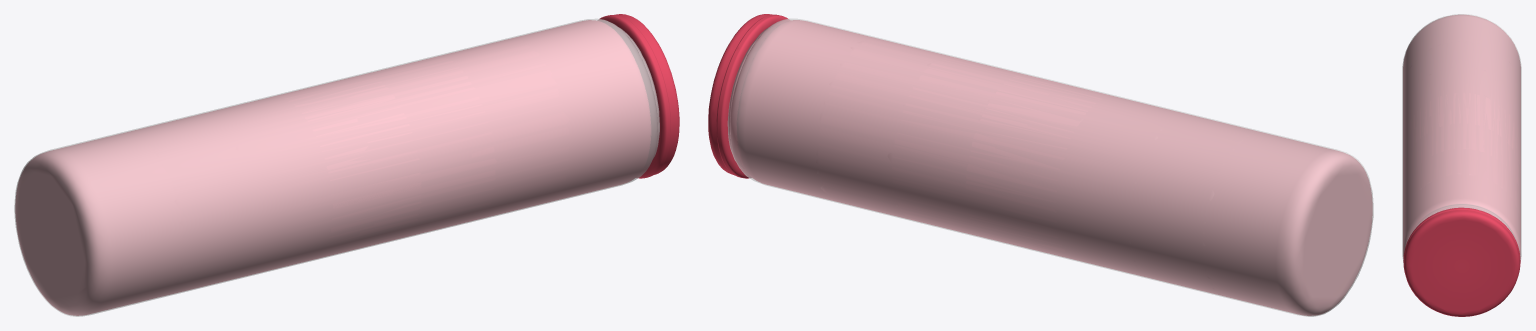
The model's file is glass-artwork-80.glb.
The picture shows the model from 3 angles, left to right: view 1: azimuth 30°, elevation 25°; view 2: azimuth 150°, elevation 25°; view 3: azimuth 270°, elevation 25°; orthographic projection. The views are drawn at different scales.
Visible parts, largest first — view 1: GLASS_Ruby_Red_XLong_Shell, GLASS_Ruby_Red_XLong_Body, GLASS_Amber_XLong_Shell, GLASS_Ruby_Red_Long_Body, GLASS_Ruby_Red_Long_Shell, GLASS_Amber_Long_Shell, GLASS_Ruby_Red_Base_Body, GLASS_Ruby_Red_Base_Shell, GLASS_Amber_Base_Shell, GLASS_Ruby_Red_Cube_Body, GLASS_Ruby_Red_XLong_Lid, GLASS_Ruby_Red_Cube_Shell (+2 smaller); view 2: GLASS_Ruby_Red_XLong_Shell, GLASS_Ruby_Red_XLong_Body, GLASS_Amber_XLong_Shell, GLASS_Ruby_Red_Long_Body, GLASS_Ruby_Red_Long_Shell, GLASS_Amber_Long_Shell, GLASS_Ruby_Red_Base_Body, GLASS_Ruby_Red_Base_Shell, GLASS_Amber_Base_Shell, GLASS_Ruby_Red_Cube_Body, GLASS_Ruby_Red_Cube_Shell, GLASS_Ruby_Red_XLong_Lid (+2 smaller); view 3: GLASS_Ruby_Red_XLong_Shell, GLASS_Ruby_Red_XLong_Body, GLASS_Amber_XLong_Shell, GLASS_Ruby_Red_XLong_Lid, GLASS_Ruby_Red_Long_Shell, GLASS_Ruby_Red_Long_Body, GLASS_Amber_Long_Shell, GLASS_Ruby_Red_Base_Body, GLASS_Ruby_Red_Base_Shell, GLASS_Amber_Base_Shell, GLASS_Ruby_Red_Cube_Body, GLASS_Ruby_Red_Cube_Shell (+2 smaller).
Boxes of the visible parts, x1,y1,x2,y2 form: GLASS_Ruby_Red_XLong_Shell: (14,19,659,316); GLASS_Ruby_Red_XLong_Body: (15,20,650,315); GLASS_Amber_XLong_Shell: (15,19,659,316); GLASS_Ruby_Red_Long_Body: (129,40,569,289); GLASS_Ruby_Red_Long_Shell: (132,40,570,295); GLASS_Amber_Long_Shell: (133,40,570,295); GLASS_Ruby_Red_Base_Body: (210,57,496,273); GLASS_Ruby_Red_Base_Shell: (205,56,496,274); GLASS_Amber_Base_Shell: (205,58,496,274); GLASS_Ruby_Red_Cube_Body: (280,75,420,249); GLASS_Ruby_Red_XLong_Lid: (597,14,679,178); GLASS_Ruby_Red_Cube_Shell: (284,76,422,257); GLASS_Ruby_Red_XLong_Shell: (728,19,1373,316); GLASS_Ruby_Red_XLong_Body: (737,20,1372,315); GLASS_Amber_XLong_Shell: (728,19,1372,316); GLASS_Ruby_Red_Long_Body: (817,39,1259,290); GLASS_Ruby_Red_Long_Shell: (816,38,1259,294); GLASS_Amber_Long_Shell: (816,38,1253,294); GLASS_Ruby_Red_Base_Body: (892,57,1183,276); GLASS_Ruby_Red_Base_Shell: (888,56,1184,275); GLASS_Amber_Base_Shell: (888,56,1183,275); GLASS_Ruby_Red_Cube_Body: (964,75,1111,254); GLASS_Ruby_Red_Cube_Shell: (965,76,1092,252); GLASS_Ruby_Red_XLong_Lid: (708,14,789,178); GLASS_Ruby_Red_XLong_Shell: (1402,14,1521,259); GLASS_Ruby_Red_XLong_Body: (1403,15,1520,255); GLASS_Amber_XLong_Shell: (1403,14,1520,255); GLASS_Ruby_Red_XLong_Lid: (1403,207,1520,316); GLASS_Ruby_Red_Long_Shell: (1403,41,1521,211); GLASS_Ruby_Red_Long_Body: (1403,42,1520,214); GLASS_Amber_Long_Shell: (1404,42,1516,209); GLASS_Ruby_Red_Base_Body: (1403,68,1519,188); GLASS_Ruby_Red_Base_Shell: (1402,67,1521,192); GLASS_Amber_Base_Shell: (1409,67,1515,171); GLASS_Ruby_Red_Cube_Body: (1410,93,1520,169); GLASS_Ruby_Red_Cube_Shell: (1404,92,1515,161).
Bounding box in the file's own units: 4 × 0.9997 × 1.
